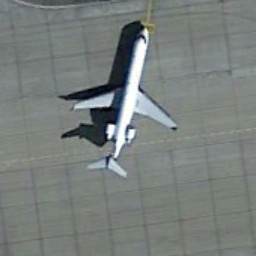Airplane: (54, 14, 184, 184)
